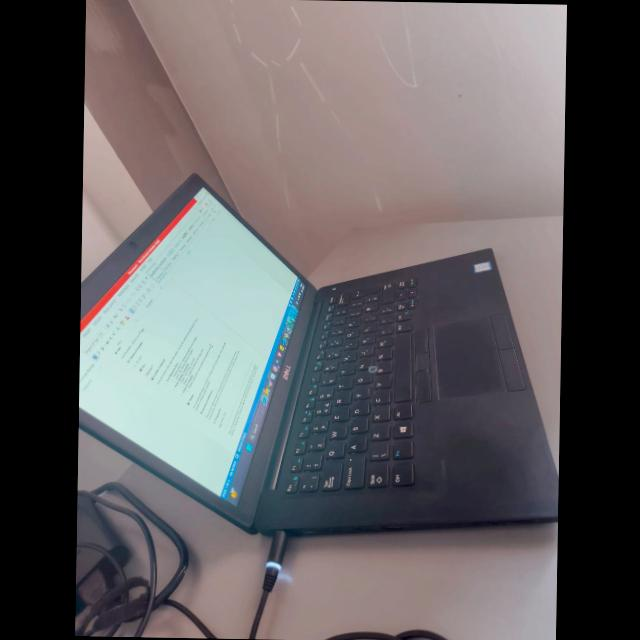laptop: (76, 170, 544, 542)
